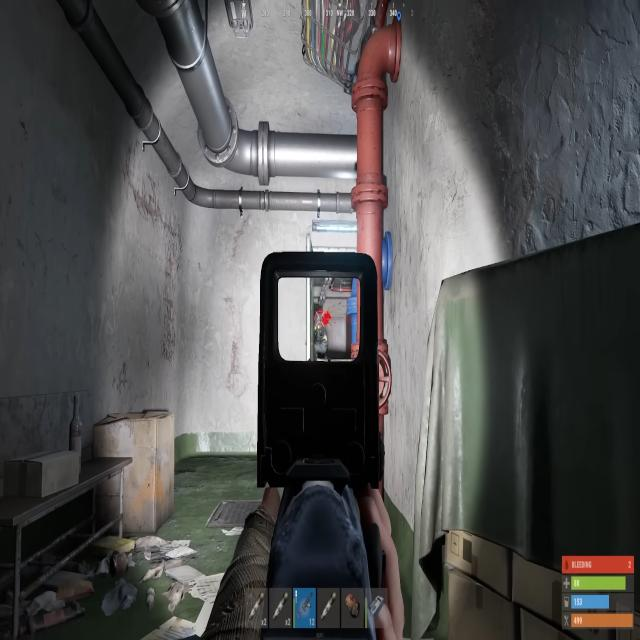Player: (314, 304, 331, 361)
